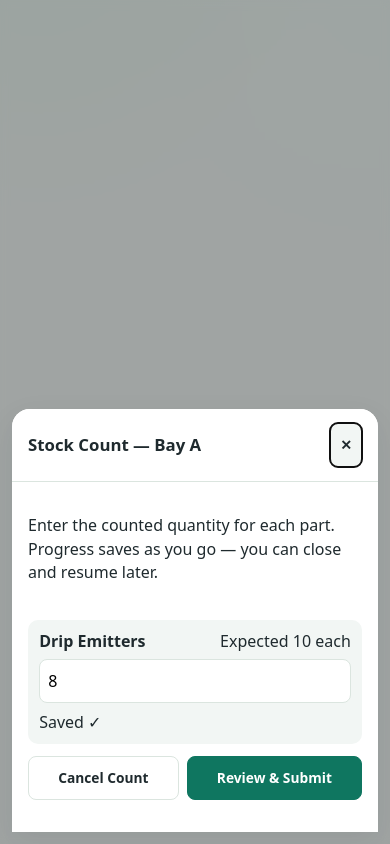
Test: StockCountSessionSheet › shows expected/counted/variance in the review step before confirming
The image size is (390, 844).
Expected: the text "Drip Emitters" is shown, [39, 630, 146, 653]
Step 1. Click the button "Review & Submit" → (274, 778), box [187, 756, 362, 800]
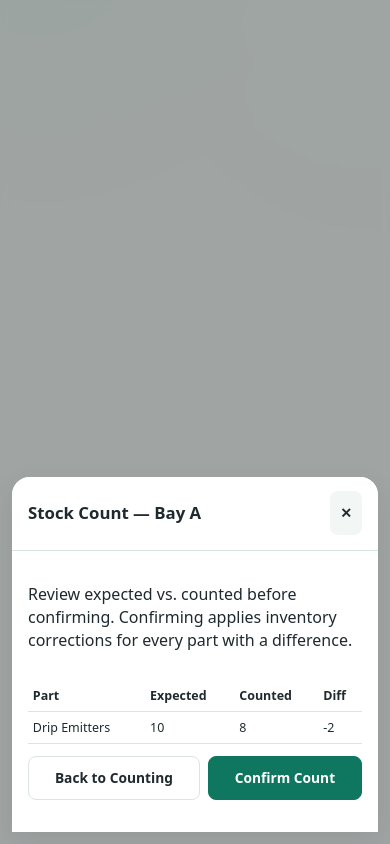
Result: the column heading "Expected" is shown at [145, 680, 234, 712]
Result: the cell "8" is shown at [234, 712, 318, 744]
Result: the cell "-2" is shown at [318, 712, 362, 744]
